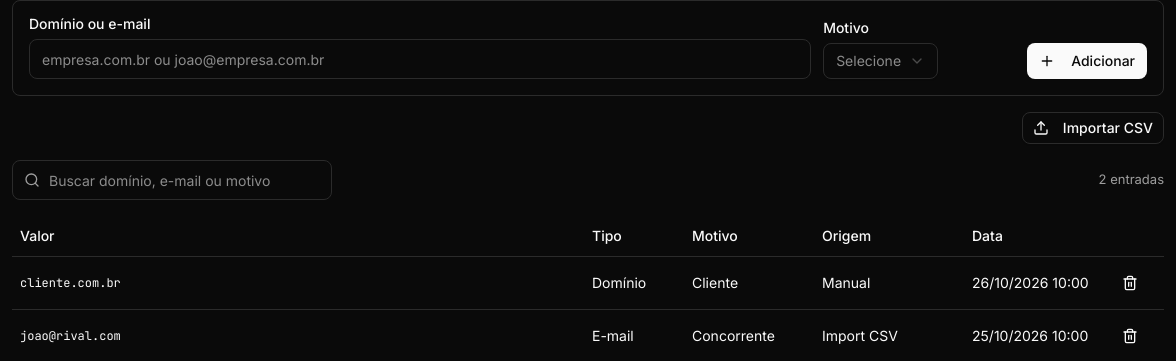
Scenario: SuppressionList › busca filtra por valor e motivo
Type "RIVAL" into the field named "buscar na lista".
click(172, 180); type("RIVAL")  # box x1=12 y1=160 x2=332 y2=200
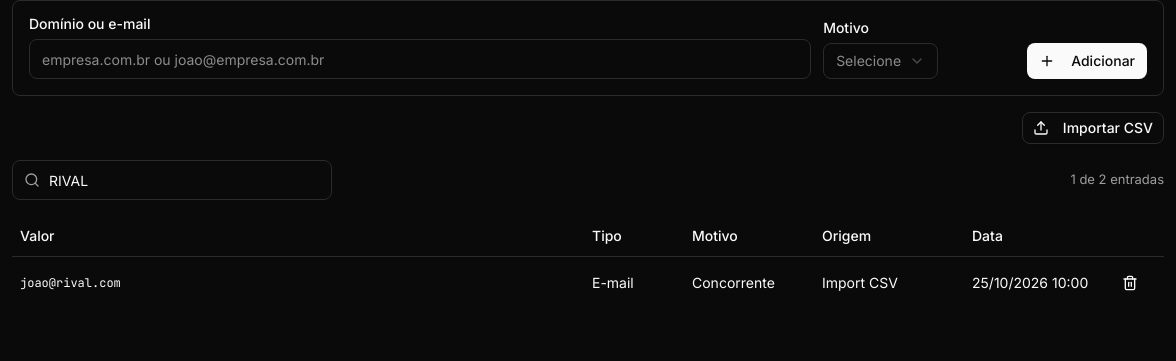
Expected: the text "joao@rival.com" is shown, x1=12 y1=256 x2=584 y2=308
Expected: the text "cliente.com.br" is gone
Expected: the text with test id "suppression-count" reads "1 de 2 entradas", x1=1070 y1=171 x2=1164 y2=187
Replace the text in the field named "buscar na lista" with "cliente" at (172, 180), box x1=12 y1=160 x2=332 y2=200
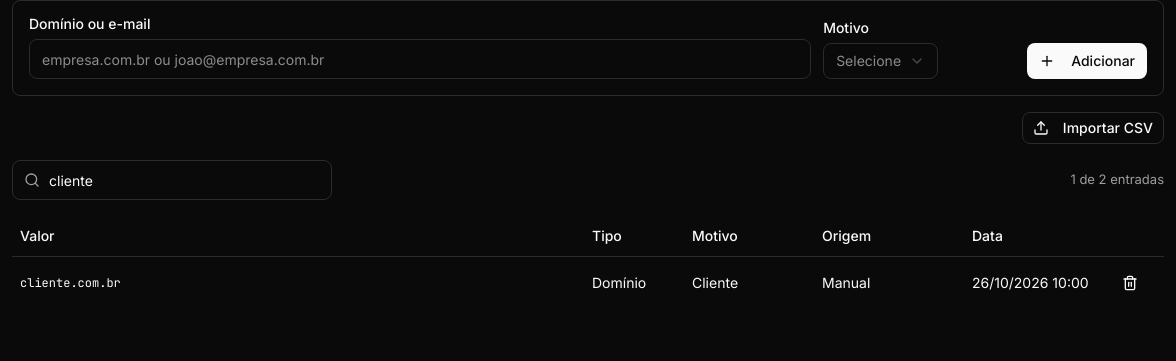
Expected: the text "cliente.com.br" is shown, x1=12 y1=256 x2=584 y2=308
Replace the text in the field named "buscar na lista" with "nada-a-ver" at (172, 180), box x1=12 y1=160 x2=332 y2=200
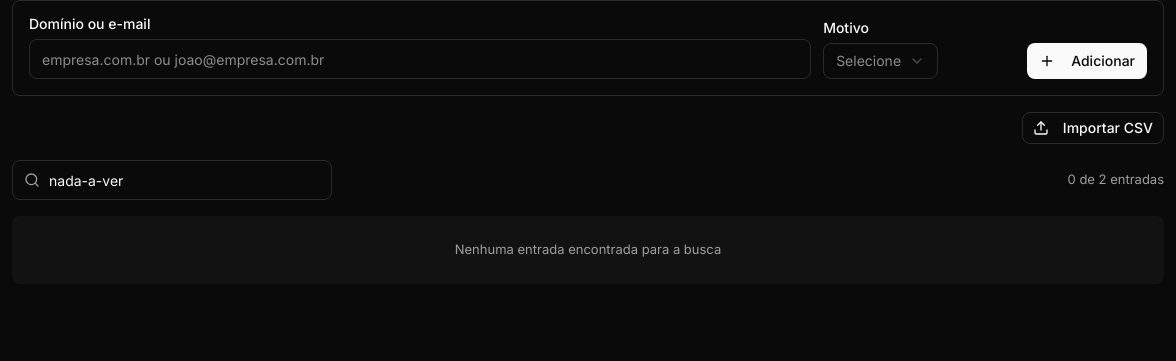
Expected: the text "Nenhuma entrada encontrada para a busca" is shown, x1=12 y1=216 x2=1164 y2=284
